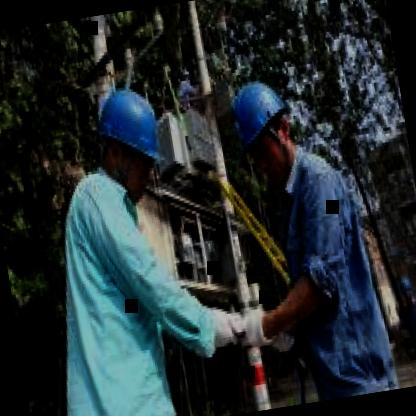helmet: (82, 70, 176, 202), (221, 67, 302, 188)
